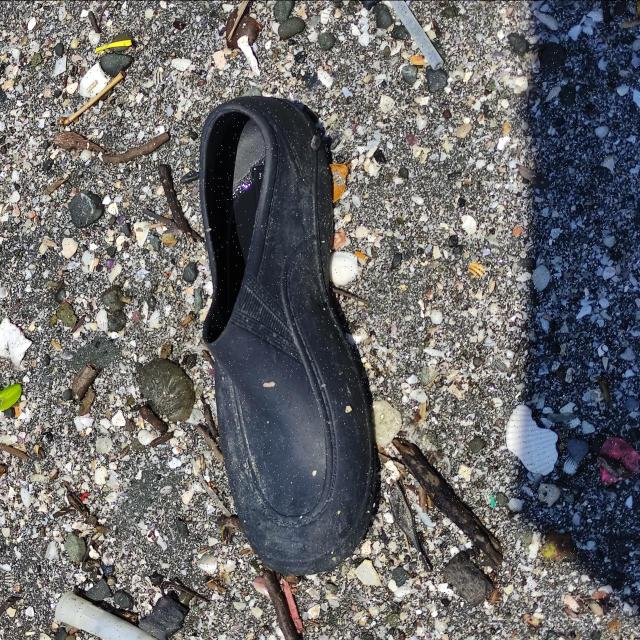rubber_waste: (199, 95, 382, 580)
